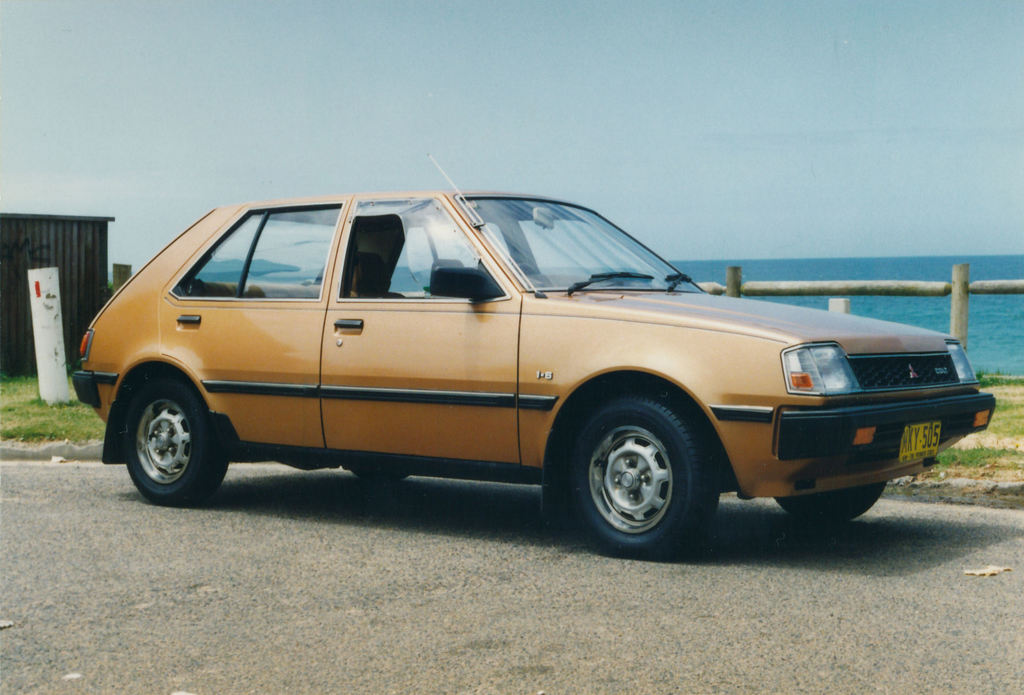Car: (64, 144, 1002, 559)
